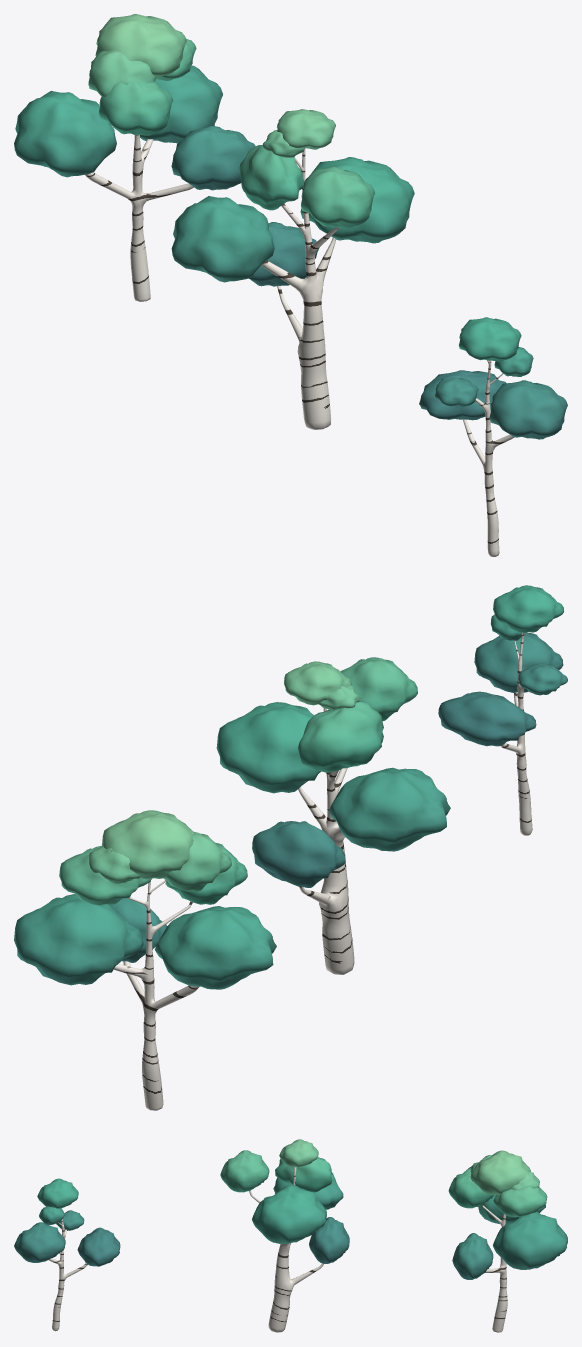
Rendered from Map3_bo5.fbx.
3 views of the same model, one above another, from view 1: azimuth 30°, elevation 25°; view 2: azimuth 150°, elevation 25°; view 3: azimuth 270°, elevation 25° (orthographic). The views are drawn at different scales.
Parts seen in each view (by area): view 1: Tree.007, Tree.013, Tree.006; view 2: Tree.007, Tree.013, Tree.006; view 3: Tree.007, Tree.013, Tree.006.
Part boxes in pixels (x1=…): Tree.007: x1=171, y1=109, x2=414, y2=429; Tree.013: x1=14, y1=14, x2=255, y2=301; Tree.006: x1=419, y1=317, x2=567, y2=556; Tree.007: x1=216, y1=657, x2=450, y2=974; Tree.013: x1=14, y1=810, x2=276, y2=1110; Tree.006: x1=438, y1=585, x2=567, y2=835; Tree.007: x1=220, y1=1139, x2=349, y2=1332; Tree.013: x1=448, y1=1150, x2=567, y2=1332; Tree.006: x1=14, y1=1178, x2=120, y2=1331.
Bounding box in the file's own units: 369 × 474 × 1252.
1 material, 1 textured.
